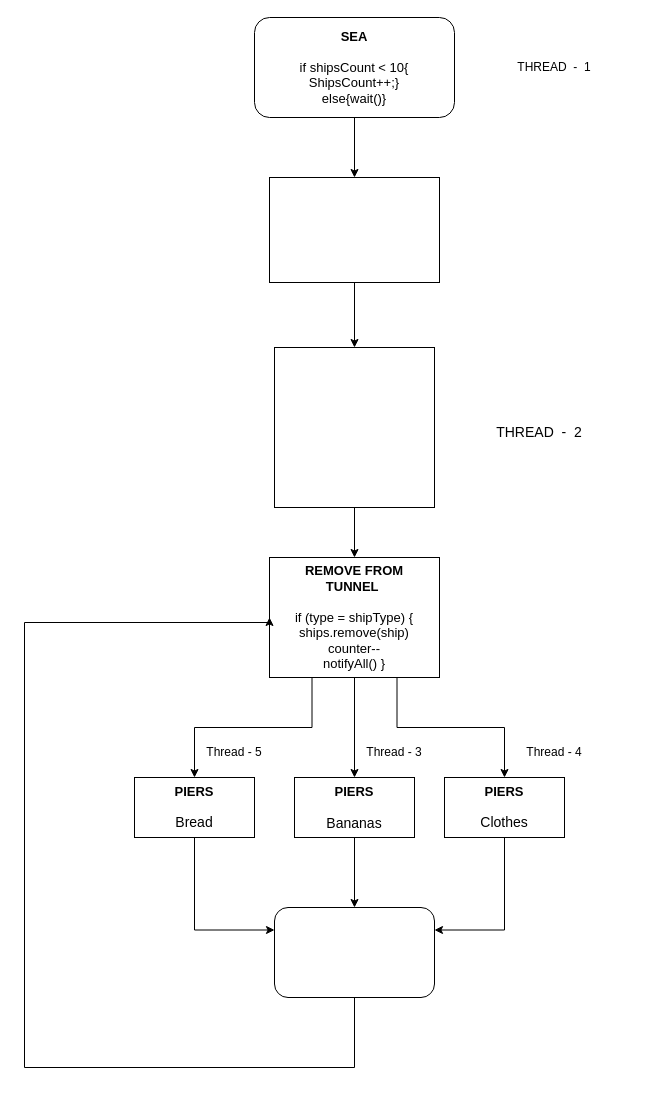
This 672x1093 diagram has some shape labels left out. The centre of each missing label's shape, as x and y in pixels:
"APPEND IN TUNNEL If counter < MaxCount { ships.add(new ship) } else { wait() }" goes at (x=354, y=229).
"if (shipsize > cargo){ cargo++ } else { ships.get(ship)]" goes at (x=354, y=952).
"TUNNEL MaxCount = 5;" goes at (x=354, y=427).
